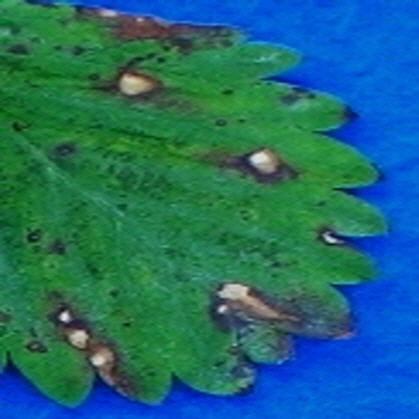Leaf Spot: (0, 0, 390, 409)
